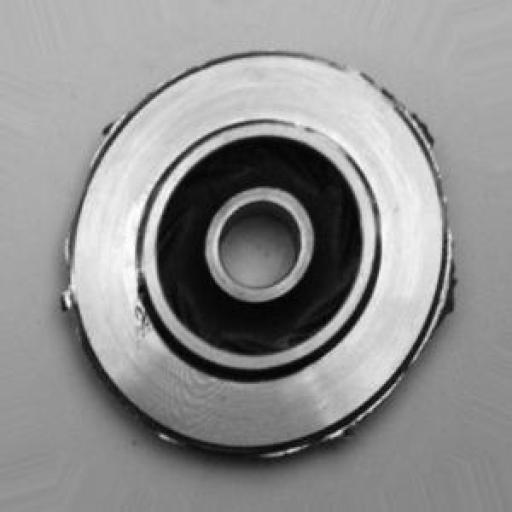defect: (41, 38, 479, 475)
